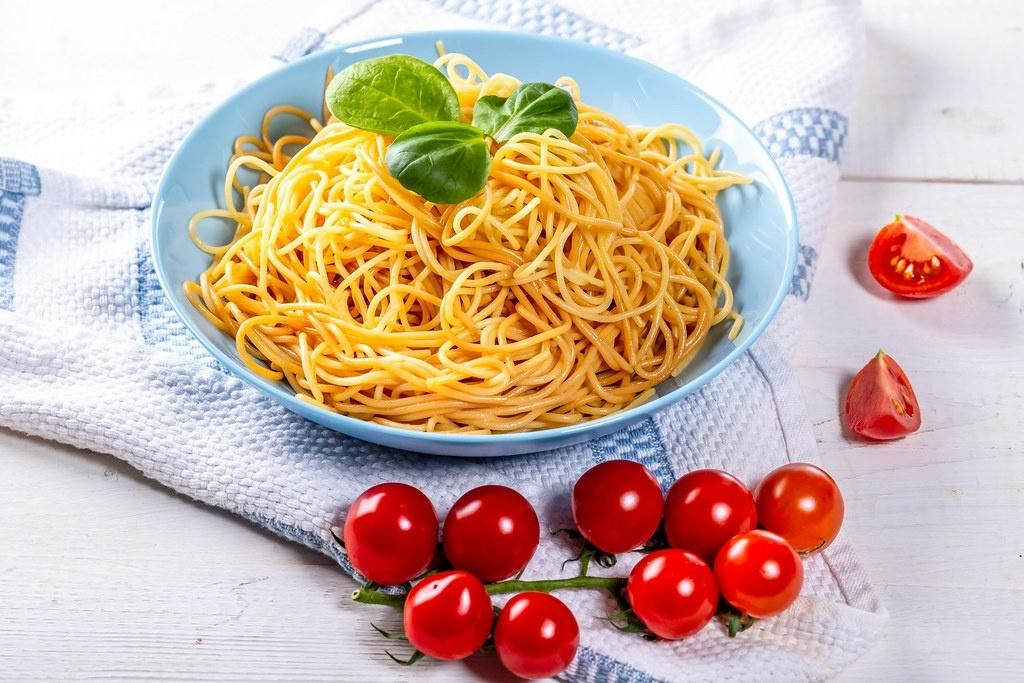Food-Detection: (163, 34, 786, 445)
